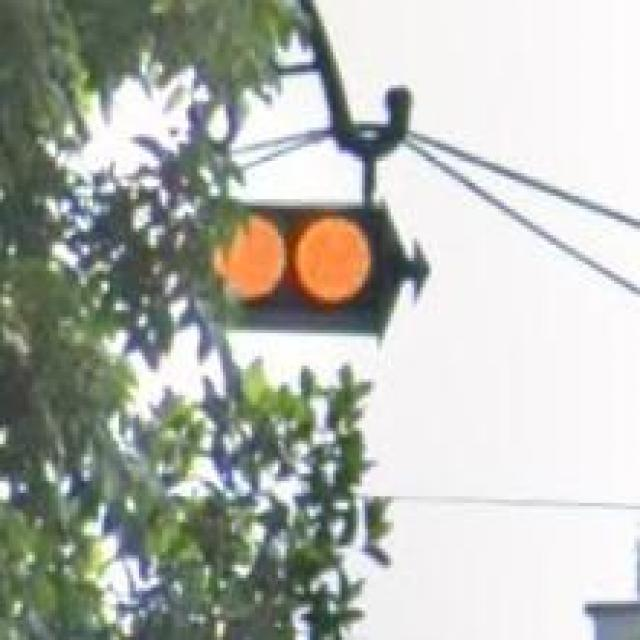yellow_light: (171, 284, 293, 480)
